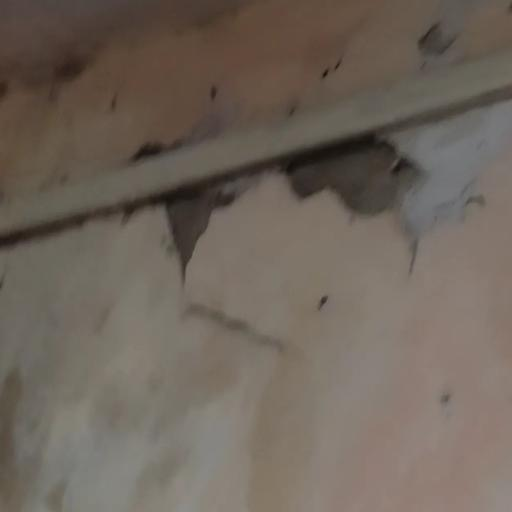peeling: (113, 96, 512, 297), (164, 273, 330, 396), (400, 4, 512, 80), (418, 362, 485, 439)
